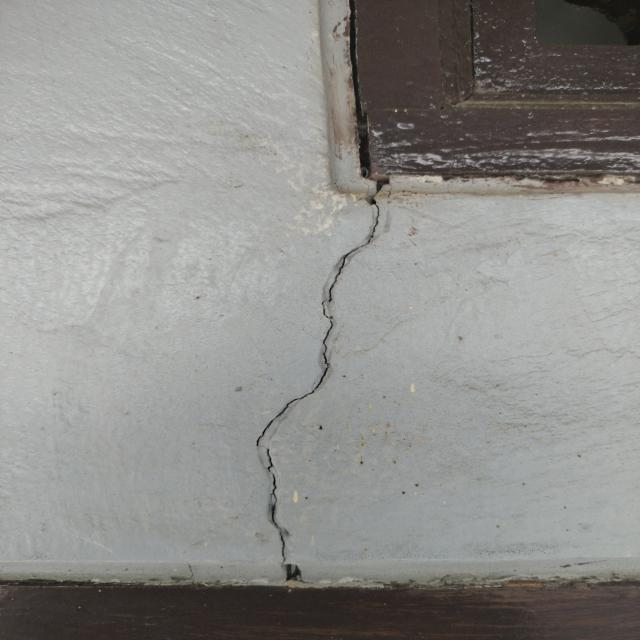Crack: (249, 195, 384, 580)
